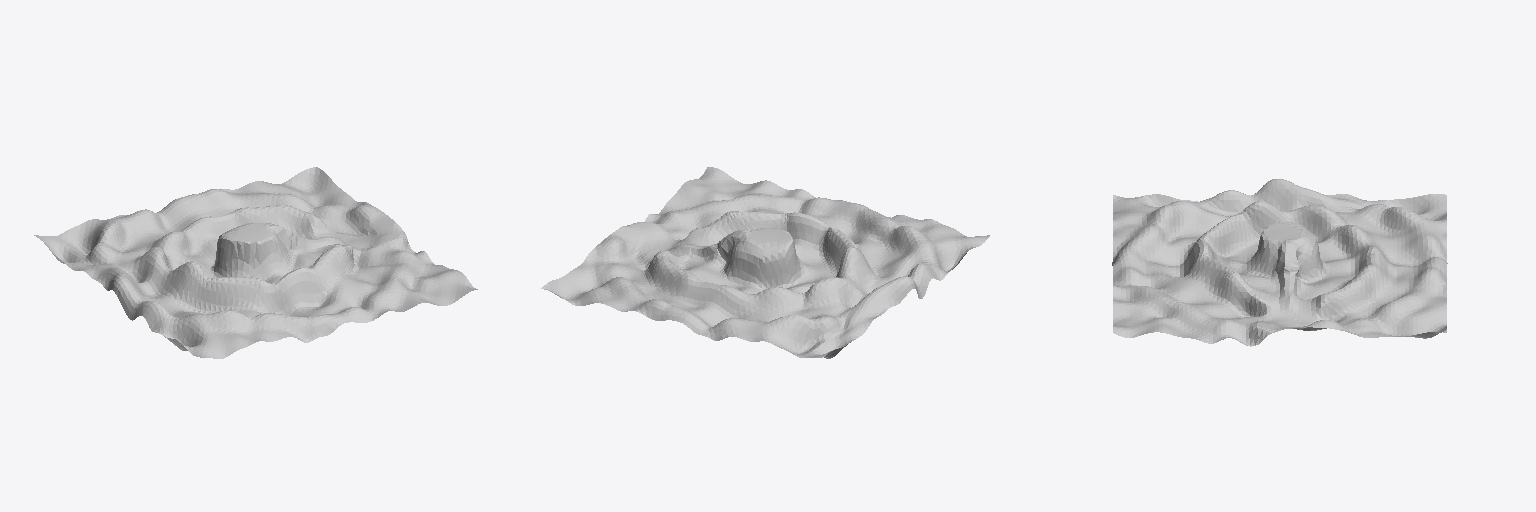
File: strada_terrain.obj
The picture shows the model from 3 angles: view 1: azimuth 30°, elevation 25°; view 2: azimuth 150°, elevation 25°; view 3: azimuth 270°, elevation 25°; orthographic projection.
Visible parts, largest first — view 1: desert_obj:Plane01; view 2: desert_obj:Plane01; view 3: desert_obj:Plane01.
Boxes of the visible parts, box(x1,y1,x2,y2) form: desert_obj:Plane01: box(34, 167, 477, 358); desert_obj:Plane01: box(541, 167, 989, 358); desert_obj:Plane01: box(1112, 179, 1447, 346).
Bounding box in the file's own units: 118 × 18.54 × 119.